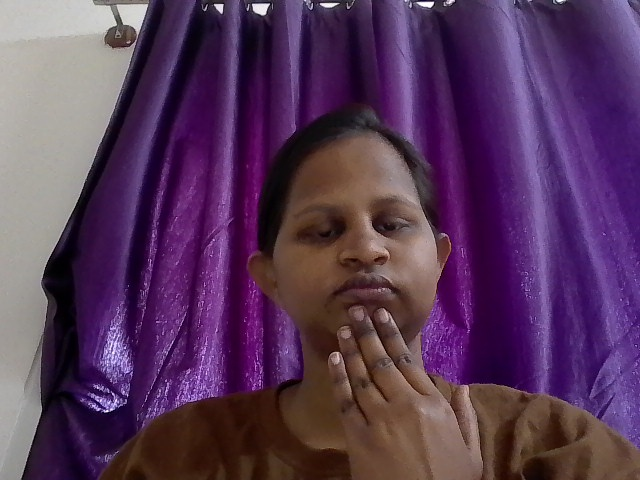THANK YOU: (218, 264, 576, 480)
